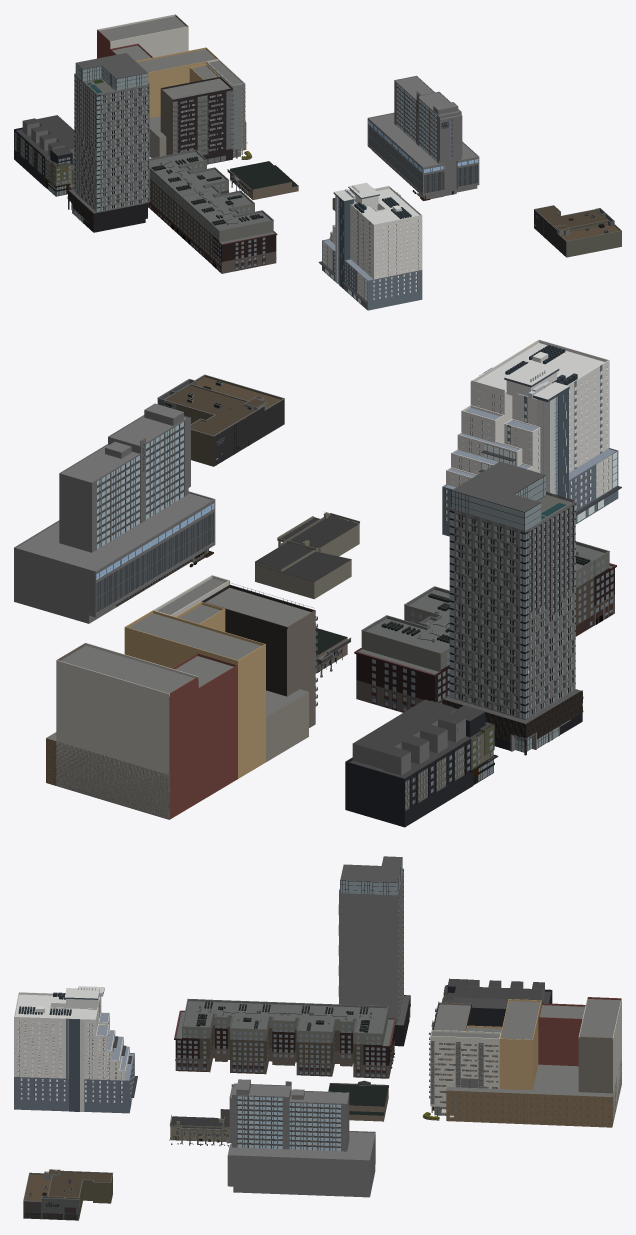
3 views of the same model, one above another, from view 1: azimuth 30°, elevation 25°; view 2: azimuth 150°, elevation 25°; view 3: azimuth 270°, elevation 25° (orthographic). The views are drawn at different scales.
Visible parts, largest first — view 1: opaque, glass; view 2: opaque, glass; view 3: opaque, glass.
Boxes of the visible parts, x1,y1,x2,y2 form: opaque: (14, 14, 621, 310); glass: (15, 63, 478, 303); opaque: (14, 339, 621, 827); glass: (96, 367, 617, 807); opaque: (14, 856, 621, 1220); glass: (17, 859, 498, 1219).
Size of the model in its own units: 265 by 97.4 by 330.
Materials: 5 (4 with a texture image).
